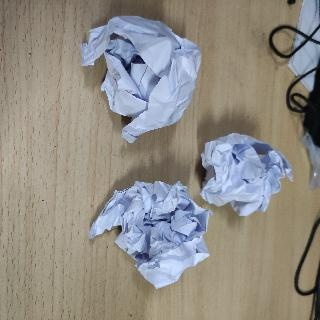8/可回收垃圾/纸: (80, 15, 200, 143), (87, 179, 210, 287), (200, 132, 294, 218)
